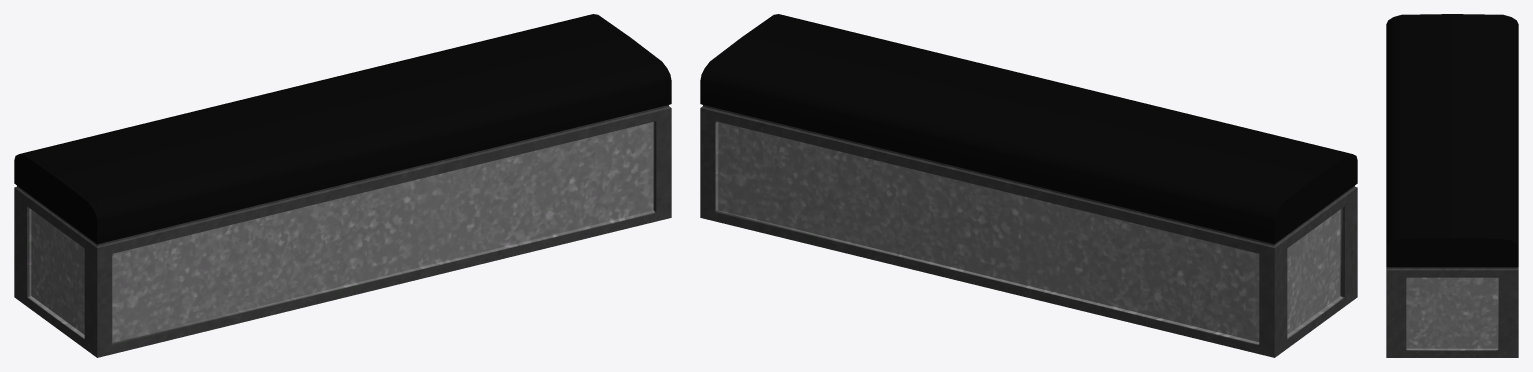
The model's file is Chair3.fbx.
3 renders of one model, left to right at view 1: azimuth 30°, elevation 25°; view 2: azimuth 150°, elevation 25°; view 3: azimuth 270°, elevation 25°, orthographic. The views are drawn at different scales.
Parts seen in each view (by area): view 1: SM_Couch_Rectangle; view 2: SM_Couch_Rectangle; view 3: SM_Couch_Rectangle.
Boxes of the visible parts, x1,y1,x2,y2 form: SM_Couch_Rectangle: [14, 14, 671, 357]; SM_Couch_Rectangle: [700, 14, 1357, 357]; SM_Couch_Rectangle: [1386, 14, 1518, 357].
Size of the model in its own units: 256 by 64 by 64.
